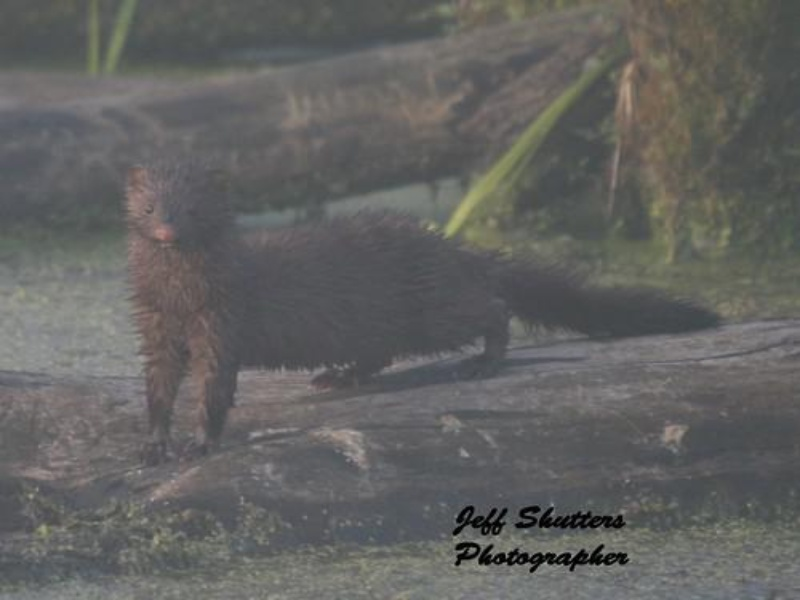minkish: (119, 151, 729, 473)
